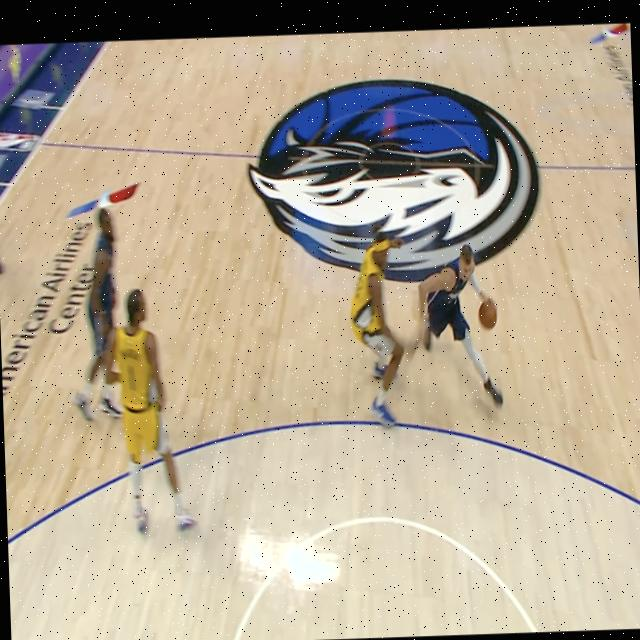no foul: (318, 164, 520, 467), (58, 182, 216, 559)
